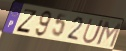2: (64, 16, 85, 44)
5: (50, 13, 69, 40)
9: (34, 10, 52, 38)
M: (95, 20, 123, 49)
U: (81, 18, 105, 45)
Z: (14, 8, 38, 35)
